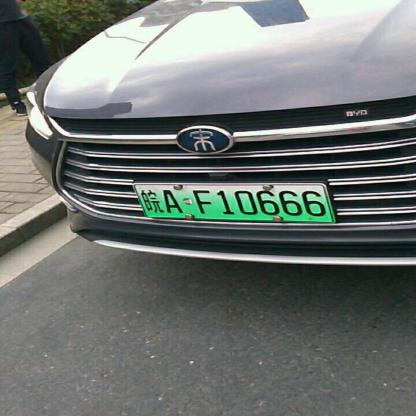lp: (133, 185, 333, 220)
